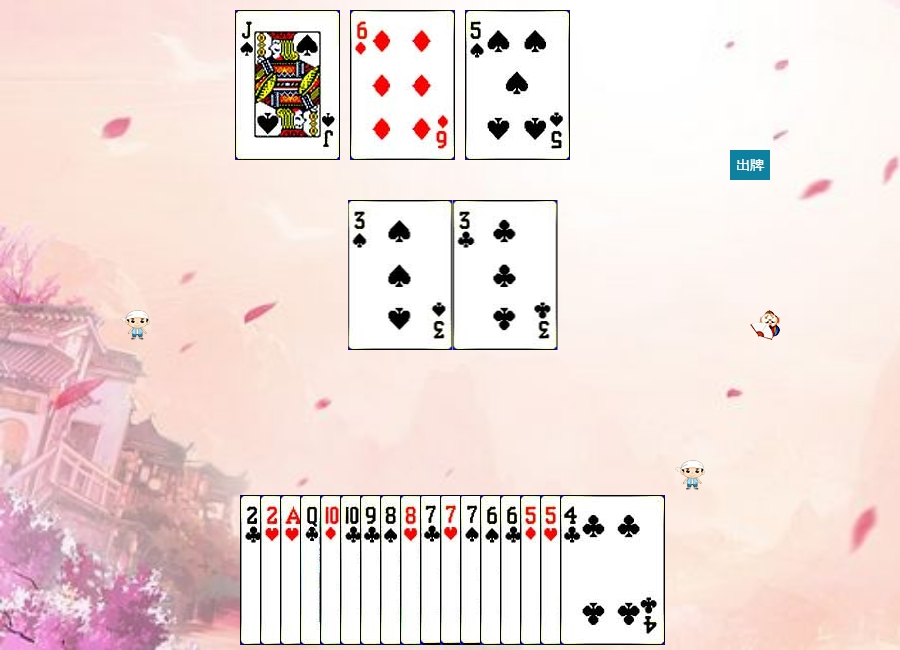10~1: (320, 495, 425, 645)
10~2: (340, 495, 445, 645)
11~4: (235, 10, 340, 160)
12~2: (300, 495, 405, 645)
14~3: (280, 495, 385, 645)
15~2: (240, 495, 345, 645)
15~3: (260, 495, 365, 645)
3~2: (453, 200, 558, 350)
3~4: (348, 200, 453, 350)
4~2: (560, 495, 665, 645)
5~1: (520, 495, 625, 645)
5~3: (540, 495, 645, 645)
5~4: (465, 10, 570, 160)
6~1: (350, 10, 455, 160)
6~2: (500, 495, 605, 645)
6~4: (480, 495, 585, 645)
7~2: (420, 495, 525, 645)
7~3: (440, 495, 545, 645)
7~4: (460, 495, 565, 645)
8~3: (400, 495, 505, 645)
8~4: (380, 495, 485, 645)
9~2: (360, 495, 465, 645)
